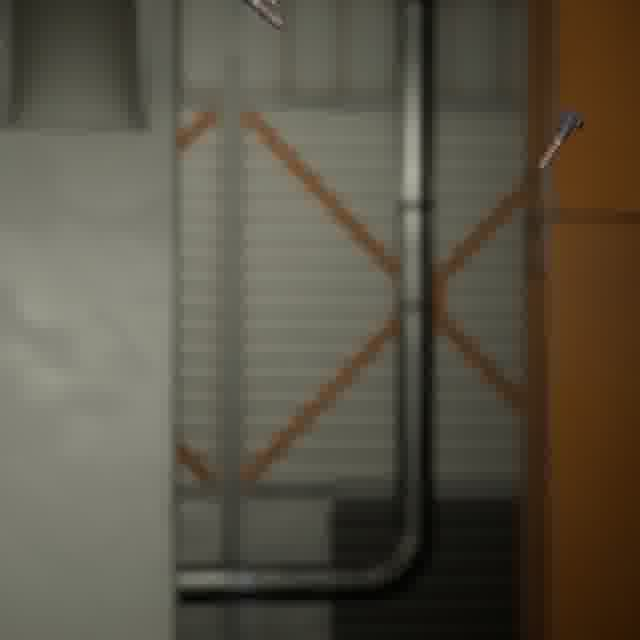bolt: (533, 104, 589, 175), (236, 0, 290, 35)
